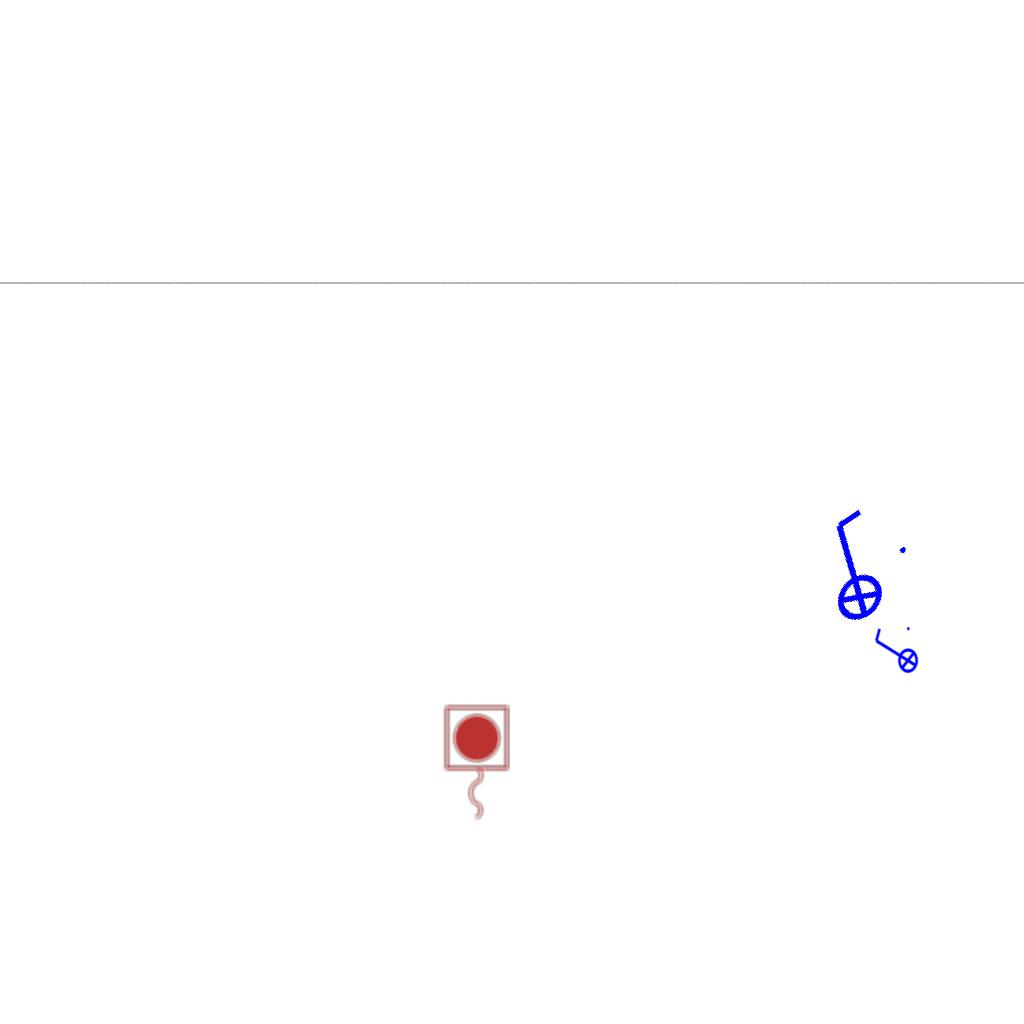Ausschalter_beleuchtet: (778, 493, 926, 641), (871, 624, 919, 680)
Zugtaster: (440, 702, 512, 824)
